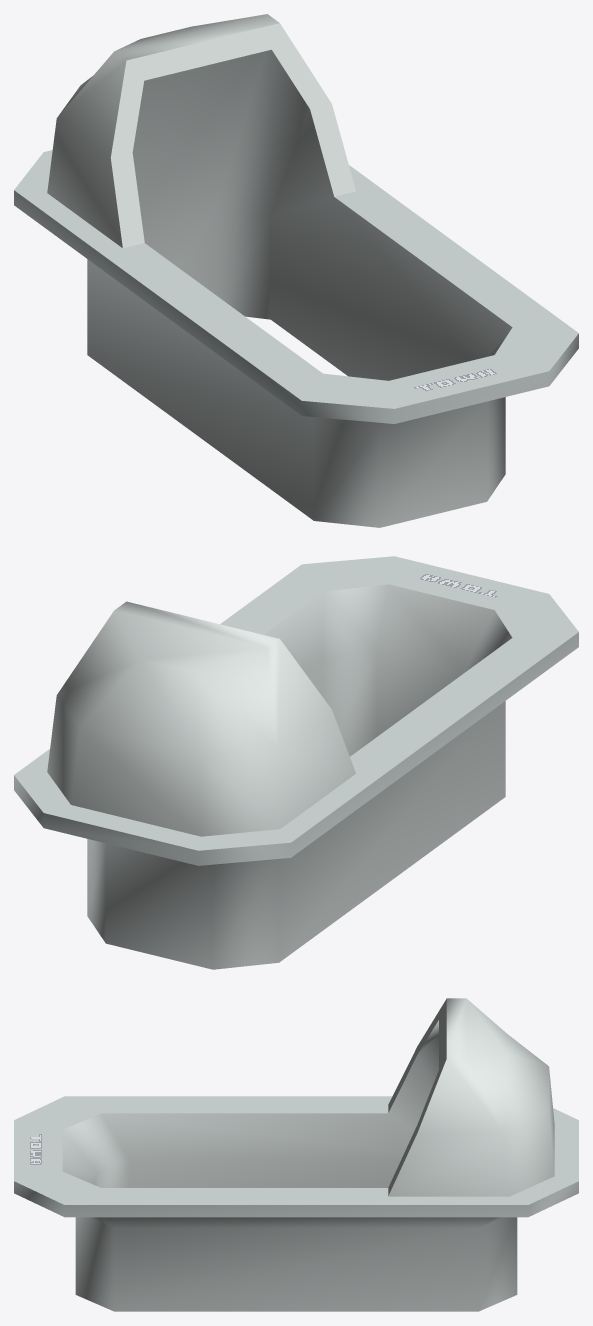
The model's file is 04d3_Potty.glb.
3 renders of one model, top to bottom at view 1: azimuth 30°, elevation 25°; view 2: azimuth 150°, elevation 25°; view 3: azimuth 270°, elevation 25°, orthographic. The views are drawn at different scales.
Visible parts, largest first — view 1: part_0; view 2: part_0; view 3: part_0.
Boxes of the visible parts, x1,y1,x2,y2 form: part_0: (14,14,578,527); part_0: (14,556,578,969); part_0: (14,998,578,1311).
Bounding box in the file's own units: 0.3827 × 0.4017 × 0.839.
Materials: 1 (1 with a texture image).
